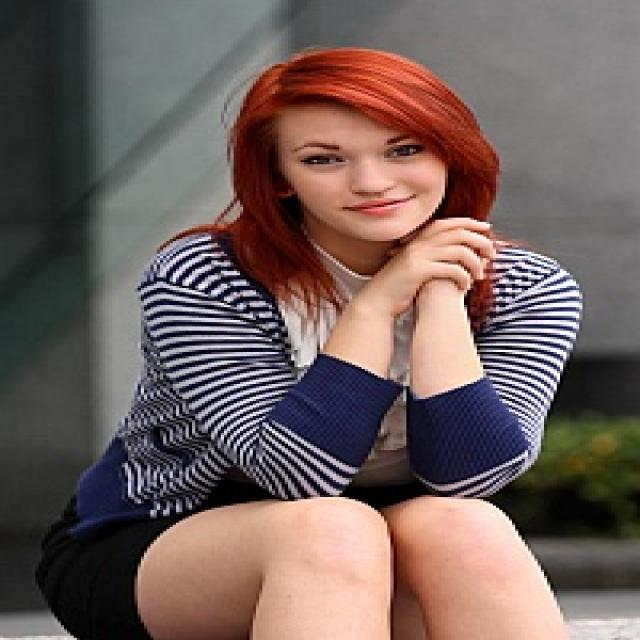Eyes: (282, 132, 445, 174)
